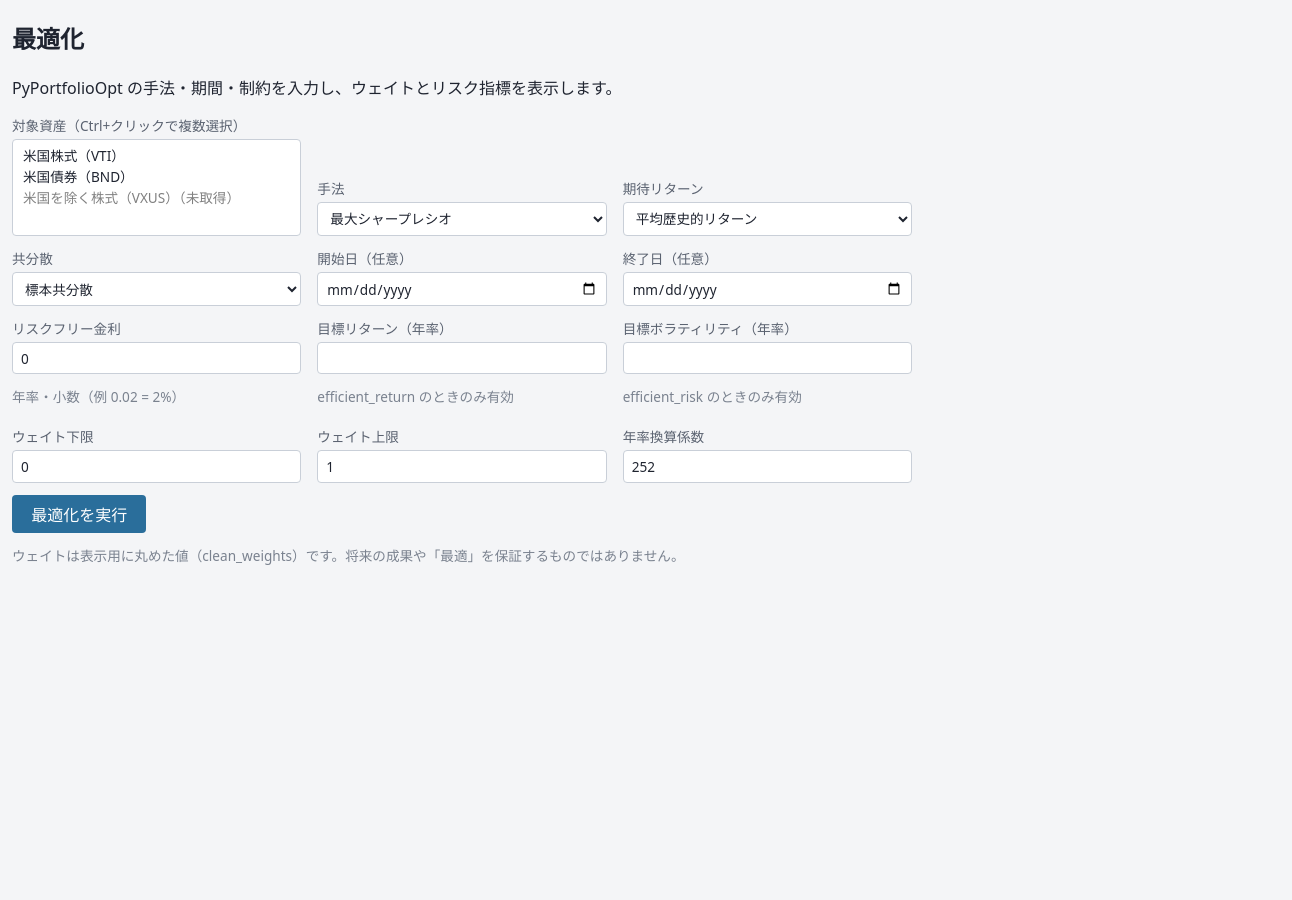
Scenario: OptimizationScreen › 個別資産のリターン・リスク統計が表示される
Select "us_equity, us_bond" in the dropdown labelled "対象資産（Ctrl+クリックで複数選択）". click: (157, 187)
box: [12, 139, 301, 236]
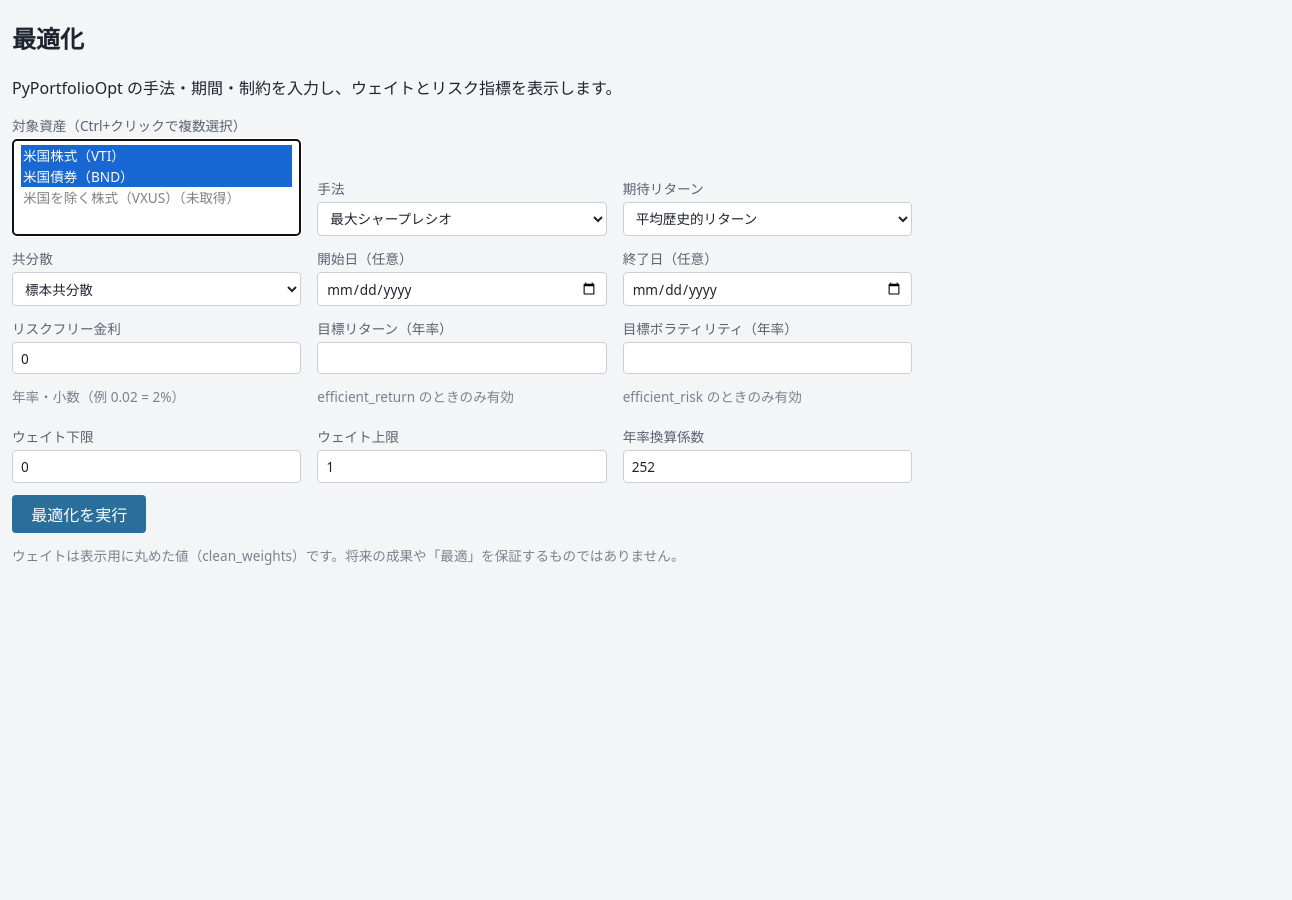
Click the button "最適化を実行". click: (79, 514)
box: [12, 495, 146, 533]
(page scrolled)
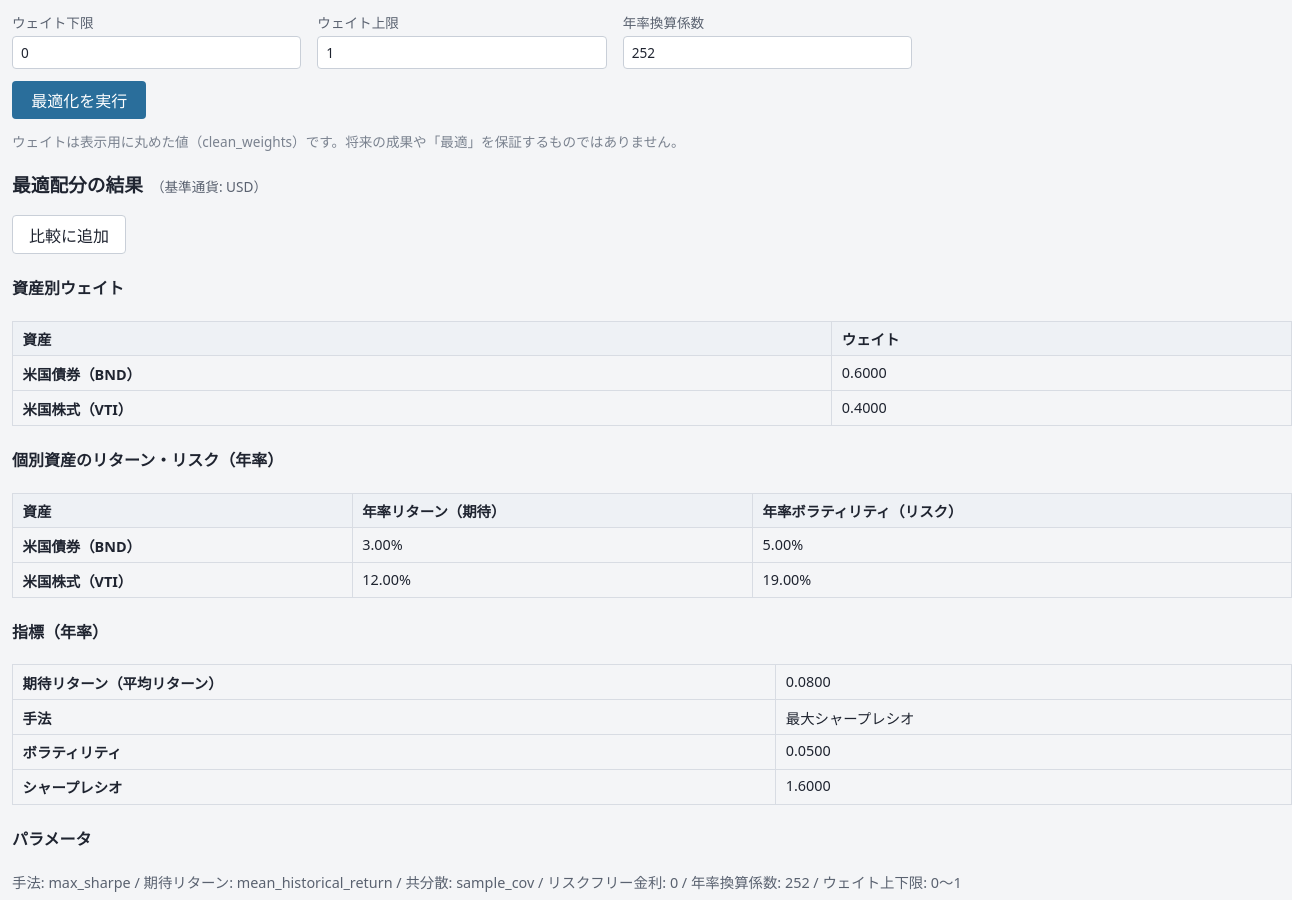
Expected: the text "0.4000" is shown, [832, 391, 1291, 426]
Expected: the heading "個別資産のリターン・リスク（年率）" is shown, [12, 449, 283, 471]
Expected: the text "12.00%" is shown, [352, 563, 752, 597]
